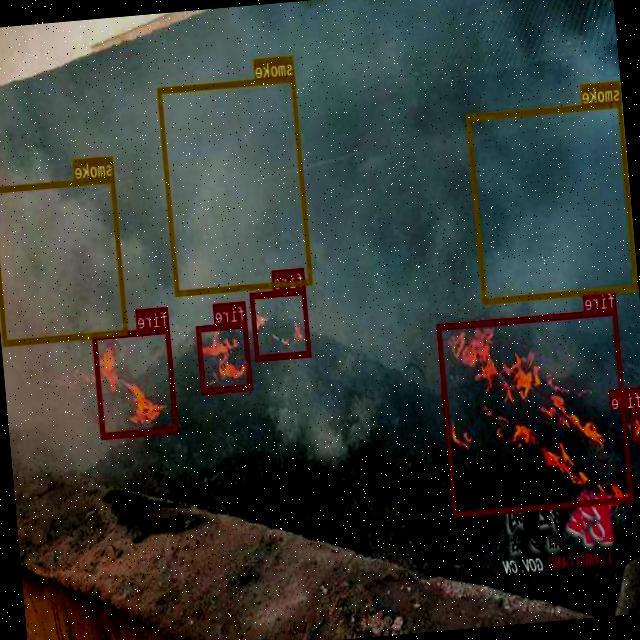fire: (438, 307, 634, 516), (92, 327, 178, 438), (250, 286, 312, 361), (197, 320, 253, 392), (630, 406, 640, 440)
smoke: (467, 100, 638, 304), (158, 76, 314, 296), (0, 176, 128, 344)
